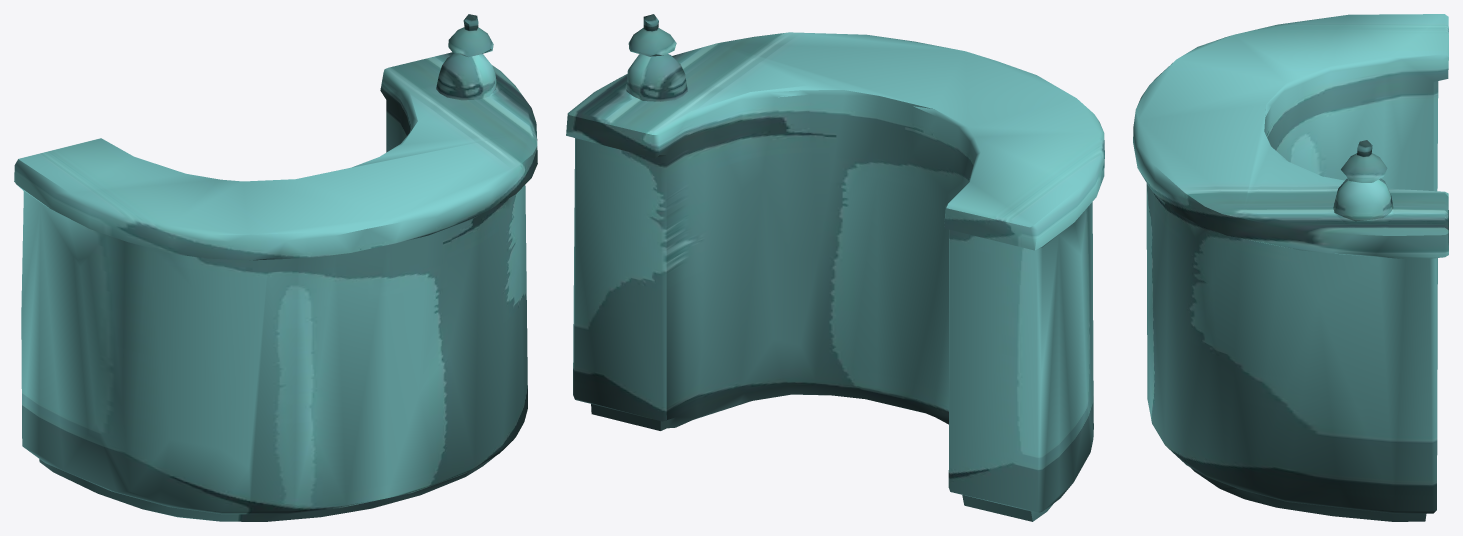
3 views of the same model, side by side, from view 1: azimuth 30°, elevation 25°; view 2: azimuth 150°, elevation 25°; view 3: azimuth 270°, elevation 25° (orthographic). The views are drawn at different scales.
Visible parts, largest first — view 1: Decor_info_desk_b_teal; view 2: Decor_info_desk_b_teal; view 3: Decor_info_desk_b_teal.
Boxes of the visible parts, left/top/right/bottom form: Decor_info_desk_b_teal: left=14, top=14, right=537, bottom=521; Decor_info_desk_b_teal: left=566, top=14, right=1104, bottom=521; Decor_info_desk_b_teal: left=1133, top=14, right=1448, bottom=521.
Bounding box in the file's own units: 1.42 × 1.1 × 0.8531.
1 material, 1 textured.
